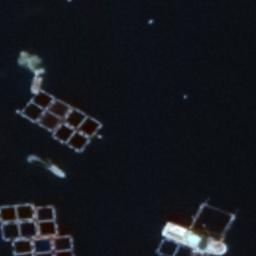square_divide: (49, 108, 106, 154), (17, 88, 73, 134), (1, 200, 41, 242), (12, 238, 56, 256)
square_solid: (186, 198, 239, 243)
